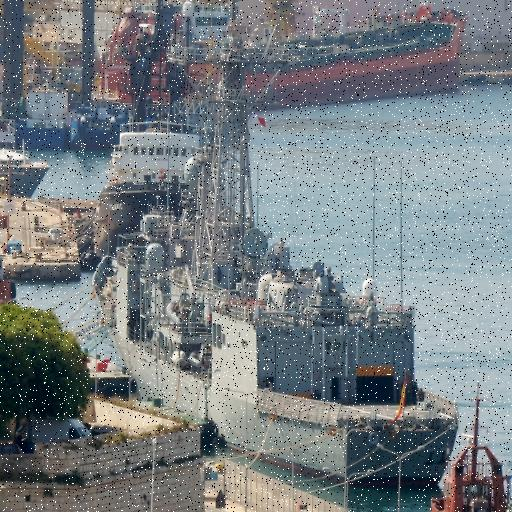Fragata: (91, 1, 462, 495)
